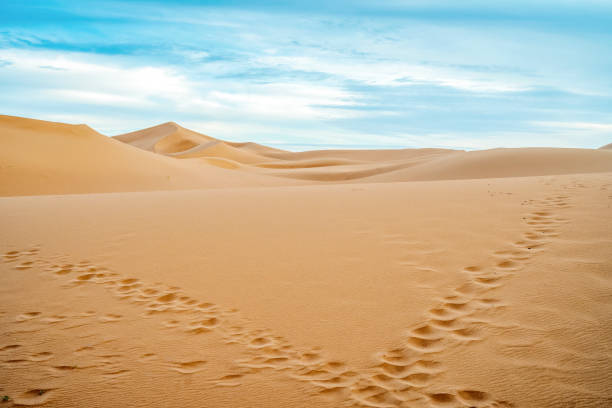human_foot_print: (8, 208, 564, 406), (354, 195, 568, 406), (0, 259, 207, 405)
